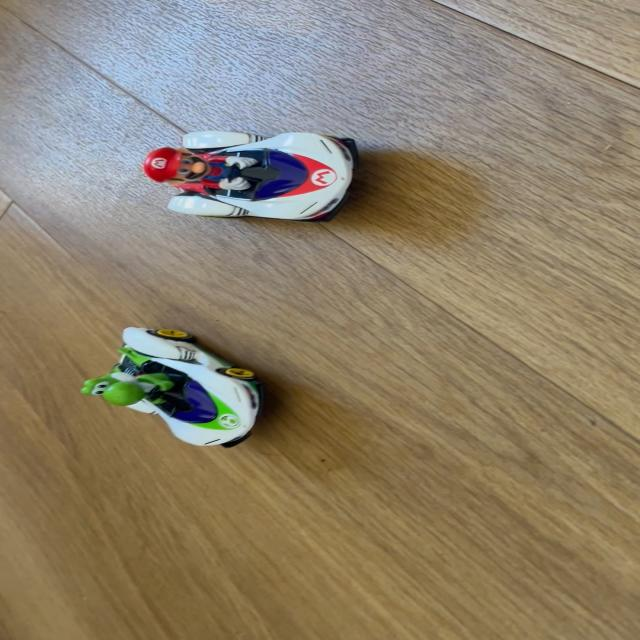mario: (143, 127, 374, 228)
yoshi: (67, 316, 280, 455)
